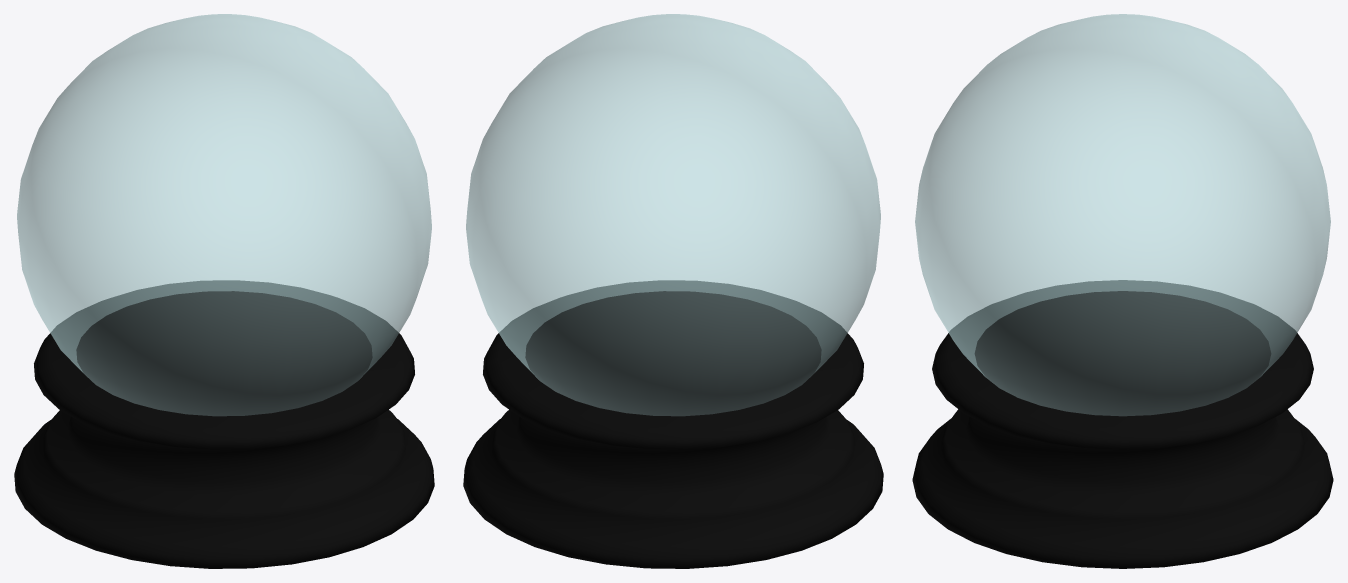
File: BOULE_VOYANTE.glb
The picture shows the model from 3 angles, left to right: view 1: azimuth 30°, elevation 25°; view 2: azimuth 150°, elevation 25°; view 3: azimuth 270°, elevation 25°; orthographic projection.
Parts seen in each view (by area): view 1: Sphere, Cylinder; view 2: Sphere, Cylinder; view 3: Sphere, Cylinder.
Part boxes in pixels (<box>): Sphere: <box>17,14,431,415</box>; Cylinder: <box>14,280,434,568</box>; Sphere: <box>466,14,880,415</box>; Cylinder: <box>463,280,883,568</box>; Sphere: <box>915,14,1330,415</box>; Cylinder: <box>912,280,1333,568</box>.
Size of the model in its own units: 2.69 by 3.14 by 2.69.
